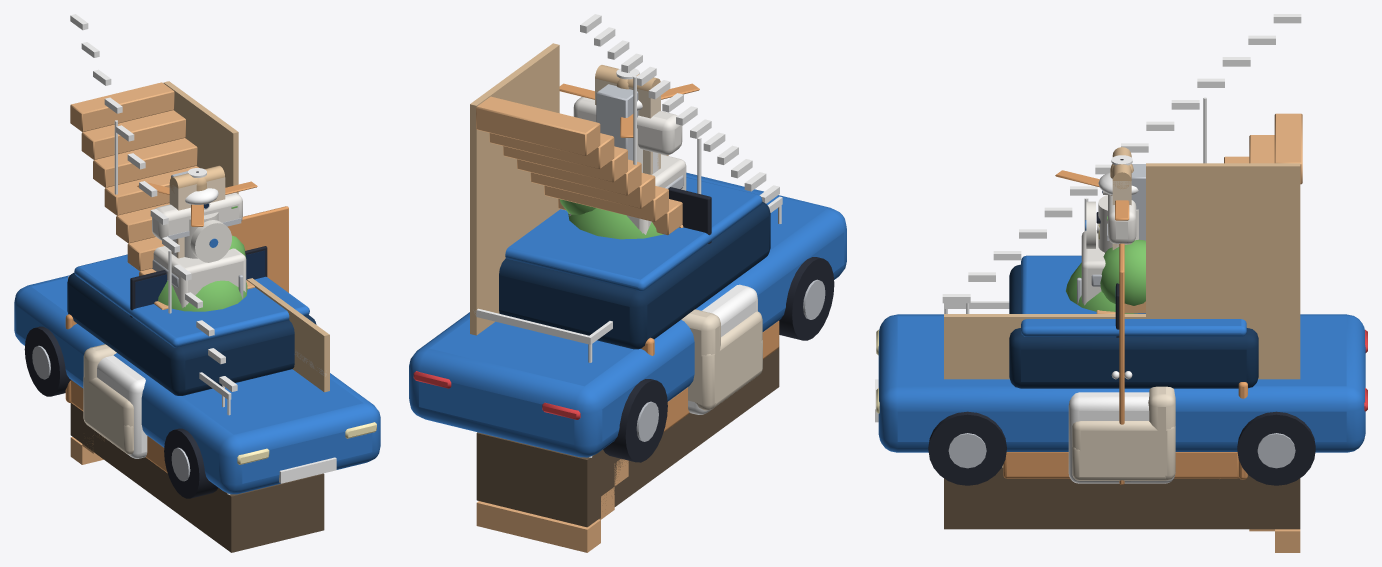
File: kit.glb
The picture shows the model from 3 angles, left to right: view 1: azimuth 30°, elevation 25°; view 2: azimuth 150°, elevation 25°; view 3: azimuth 270°, elevation 25°; orthographic projection. The views are drawn at different scales.
Visible parts, largest first — view 1: dev_car, stairs, stairs_top, dev_sofa, door_leaf, dev_fridge, item_large, dev_aircon, dev_tv_wall, tree_round, dev_wall_fan, door_hi (+2 smaller); view 2: dev_car, stairs, stairs_top, dev_sofa, dev_aircon, dev_hood, tree_round, item_large, dev_tv_wall, dev_bed, door_hi, dev_fridge (+2 smaller); view 3: dev_car, stairs, stairs_top, dev_sofa, dev_bed, tree_round, item_large, dev_fridge, door_leaf, dev_aircon, dev_hood, door_hi (+2 smaller).
Part boxes in pixels (left/top/right/bottom): dev_car: left=14, top=254, right=380, bottom=498; stairs: left=70, top=14, right=329, bottom=407; stairs_top: left=68, top=276, right=326, bottom=552; dev_sofa: left=83, top=344, right=133, bottom=454; door_leaf: left=227, top=206, right=288, bottom=292; dev_fridge: left=153, top=246, right=246, bottom=307; item_large: left=97, top=355, right=147, bottom=458; dev_aircon: left=152, top=192, right=242, bottom=240; dev_tv_wall: left=130, top=246, right=267, bottom=317; tree_round: left=158, top=235, right=247, bottom=311; dev_wall_fan: left=190, top=220, right=231, bottom=262; door_hi: left=169, top=165, right=225, bottom=210; dev_car: left=409, top=172, right=846, bottom=462; stairs: left=470, top=14, right=779, bottom=335; stairs_top: left=473, top=196, right=782, bottom=552; dev_sofa: left=681, top=309, right=762, bottom=410; dev_aircon: left=573, top=97, right=682, bottom=155; dev_hood: left=596, top=84, right=683, bottom=189; tree_round: left=560, top=199, right=663, bottom=239; item_large: left=688, top=284, right=757, bottom=414; dev_tv_wall: left=668, top=187, right=711, bottom=243; dev_bed: left=641, top=321, right=779, bottom=432; door_hi: left=595, top=65, right=660, bottom=118; dev_fridge: left=569, top=154, right=686, bottom=234; dev_car: left=875, top=255, right=1367, bottom=485; stairs: left=942, top=14, right=1302, bottom=467; stairs_top: left=944, top=301, right=1300, bottom=552; dev_sofa: left=1072, top=386, right=1175, bottom=480; dev_bed: left=1003, top=382, right=1247, bottom=479; tree_round: left=1066, top=239, right=1145, bottom=313; item_large: left=1068, top=392, right=1175, bottom=483; dev_fridge: left=1077, top=230, right=1105, bottom=305; door_leaf: left=1111, top=243, right=1132, bottom=484; dev_aircon: left=1107, top=195, right=1136, bottom=243; dev_hood: left=1091, top=164, right=1145, bottom=286; door_hi: left=1112, top=147, right=1131, bottom=204.
Bounding box in the file's own units: 2 × 4.54 × 4.15.
